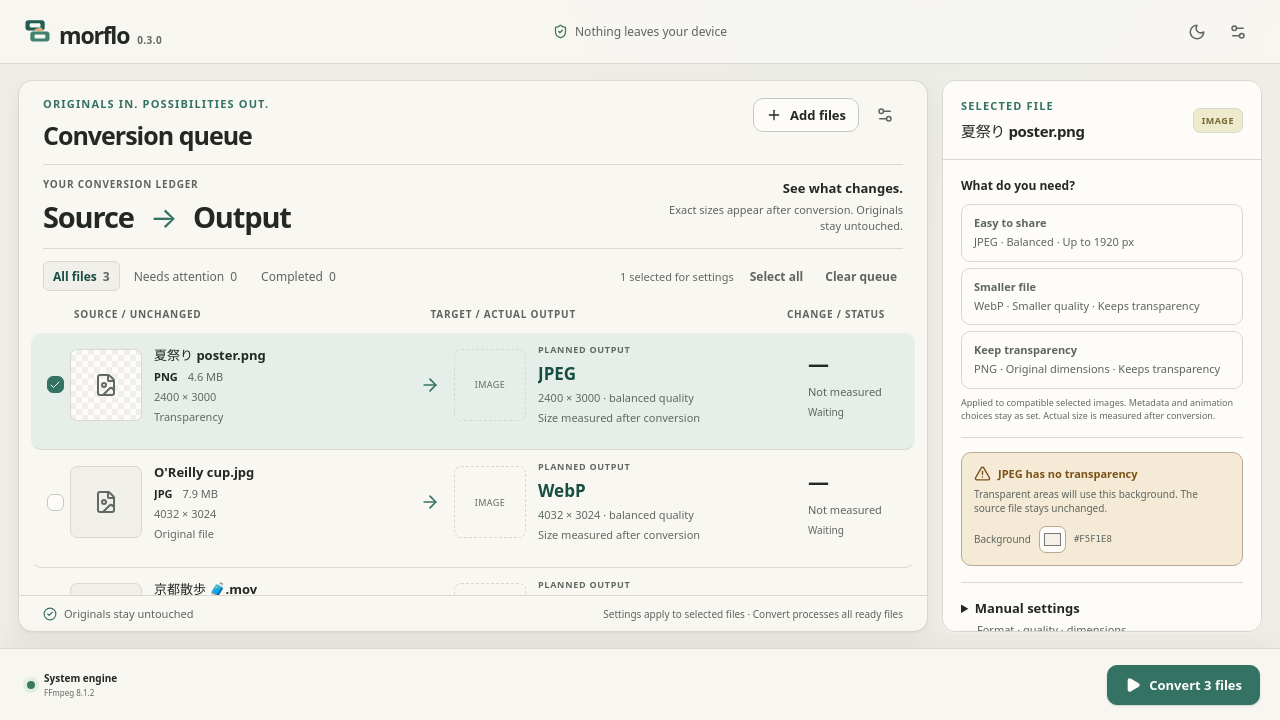
Scenario: Morflo primary UI › supports queue removal and conversion from the keyboard
Click the heading "Manual settings" at (1051,618), box [975,599,1126,637]
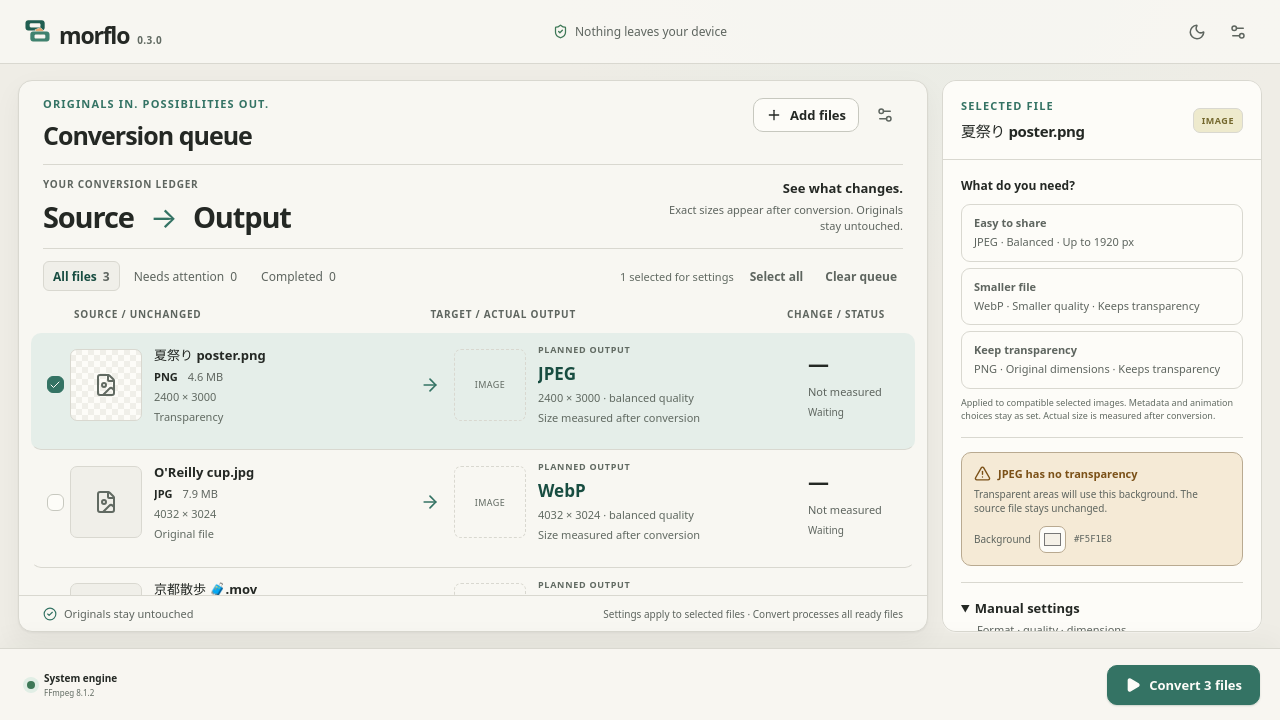
Click the checkbox named "Select O'Reilly cup.jpg" at (55,502), box [46,494,64,511]
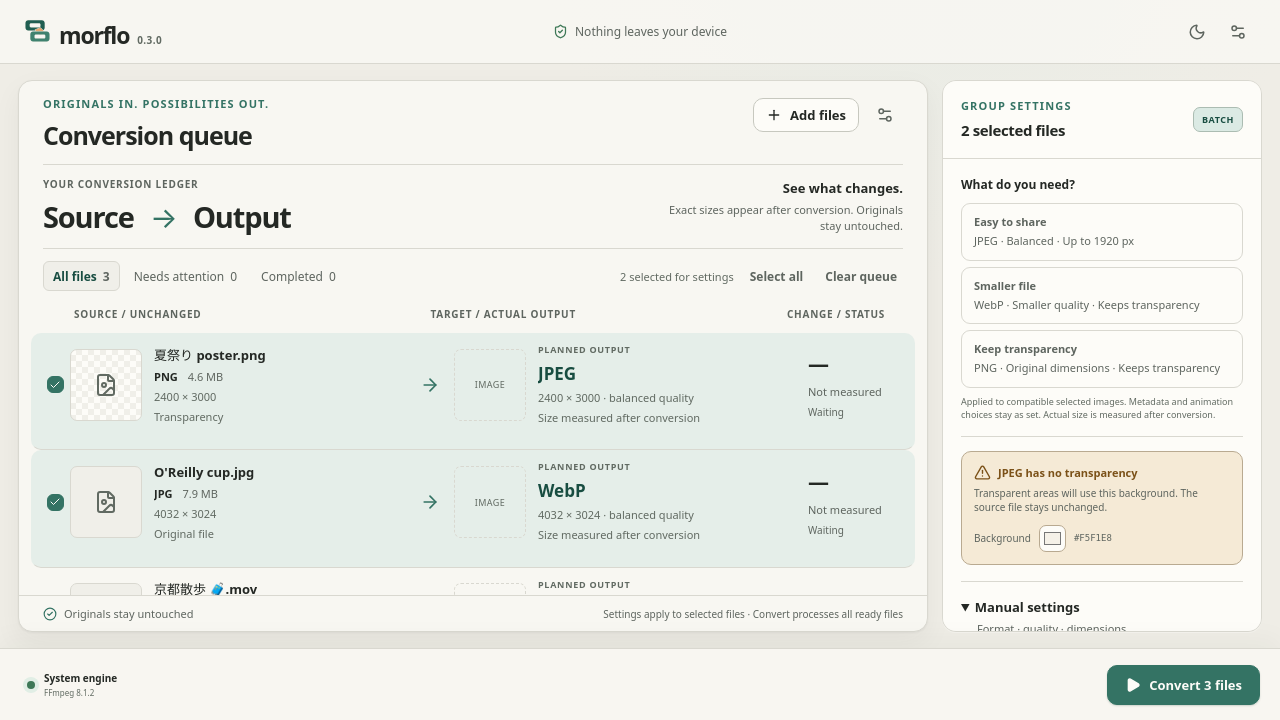
Press Delete
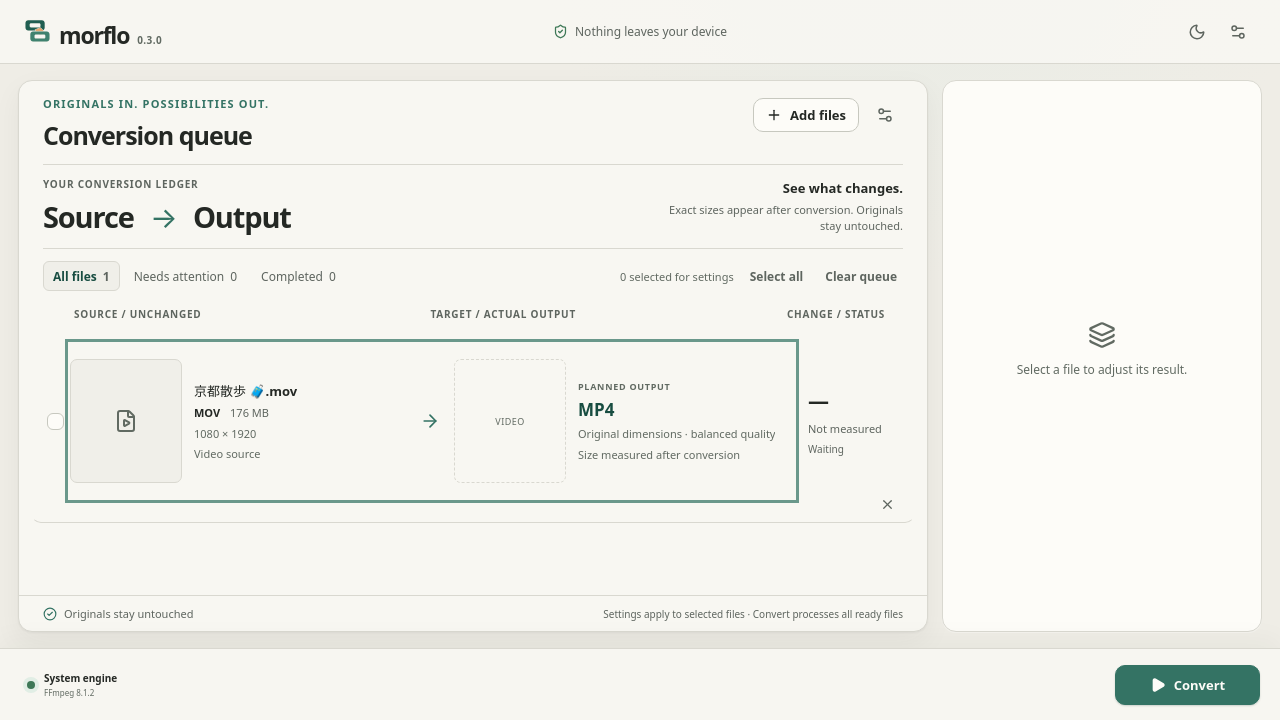
Check: the button "O'Reilly cup.jpg" is gone
Type keys "{Control>}{Enter}{/Control}"
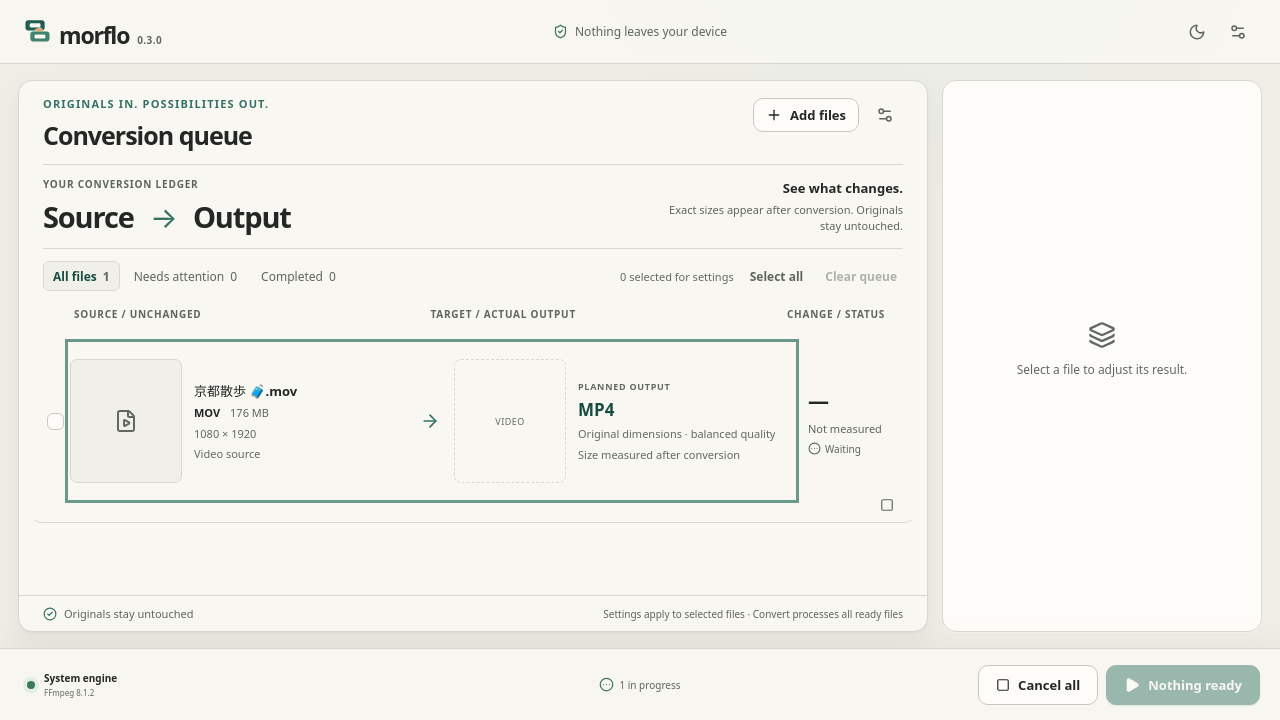
Check: the button "Cancel all" is shown, box [978,664,1098,704]
